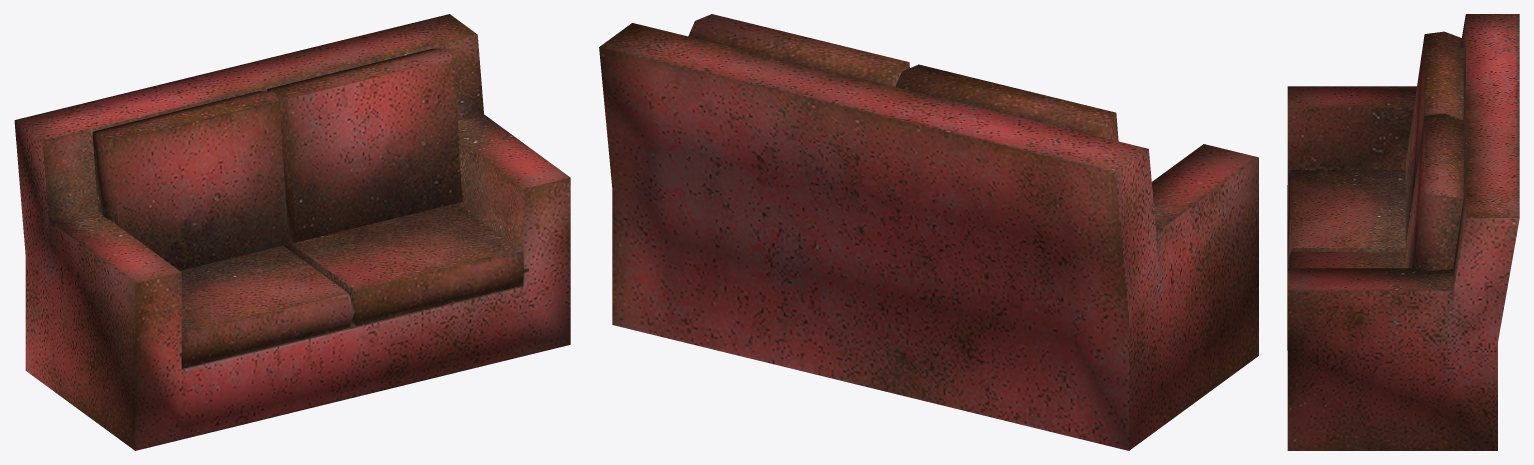
File: couch.fbx
The picture shows the model from 3 angles, left to right: view 1: azimuth 30°, elevation 25°; view 2: azimuth 150°, elevation 25°; view 3: azimuth 270°, elevation 25°; orthographic projection. The views are drawn at different scales.
Visible parts, largest first — view 1: Cube, Cube.012, Cube.011, Cube.010, Cube.005; view 2: Cube, Cube.011, Cube.012; view 3: Cube, Cube.005, Cube.012, Cube.011, Cube.010.
Part boxes in pixels (bbox=[...]): Cube: bbox=[14, 14, 570, 450]; Cube.012: bbox=[267, 48, 462, 242]; Cube.011: bbox=[92, 91, 288, 270]; Cube.010: bbox=[283, 203, 528, 325]; Cube.005: bbox=[180, 245, 354, 368]; Cube: bbox=[599, 23, 1258, 450]; Cube.011: bbox=[895, 64, 1118, 141]; Cube.012: bbox=[688, 14, 909, 86]; Cube: bbox=[1287, 14, 1519, 450]; Cube.005: bbox=[1287, 170, 1405, 266]; Cube.012: bbox=[1405, 113, 1463, 270]; Cube.011: bbox=[1405, 31, 1463, 242]; Cube.010: bbox=[1287, 252, 1405, 350].
Bounding box in the file's own units: 805 × 435 × 387.
1 material, 1 textured.
